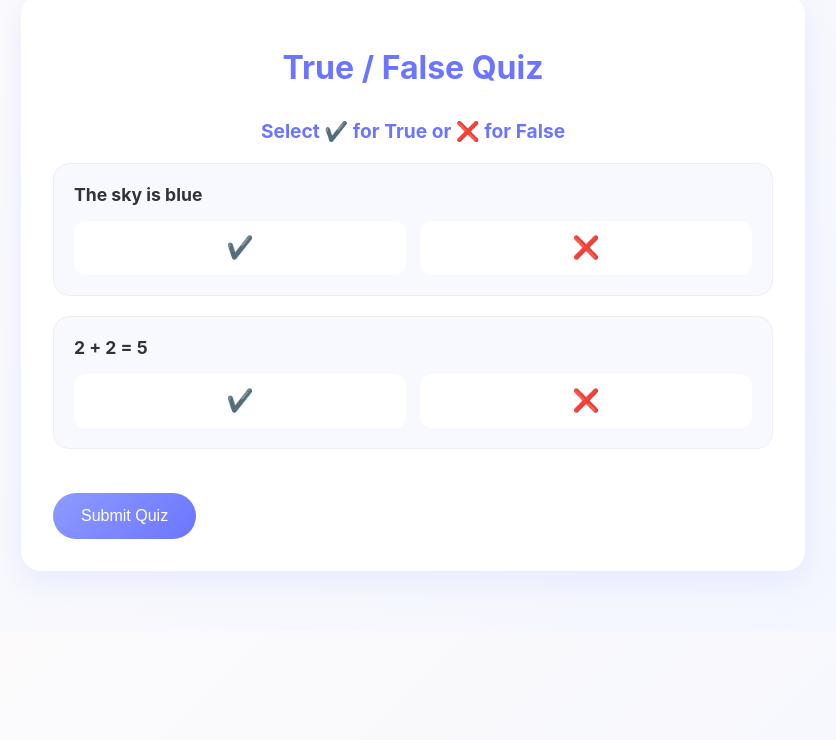
Test: TrueFalseQuizPage Component › calculates score correctly after answering all questions
Click the button "✔️" below "The sky is blue" at [240, 248], box [74,221,406,275]
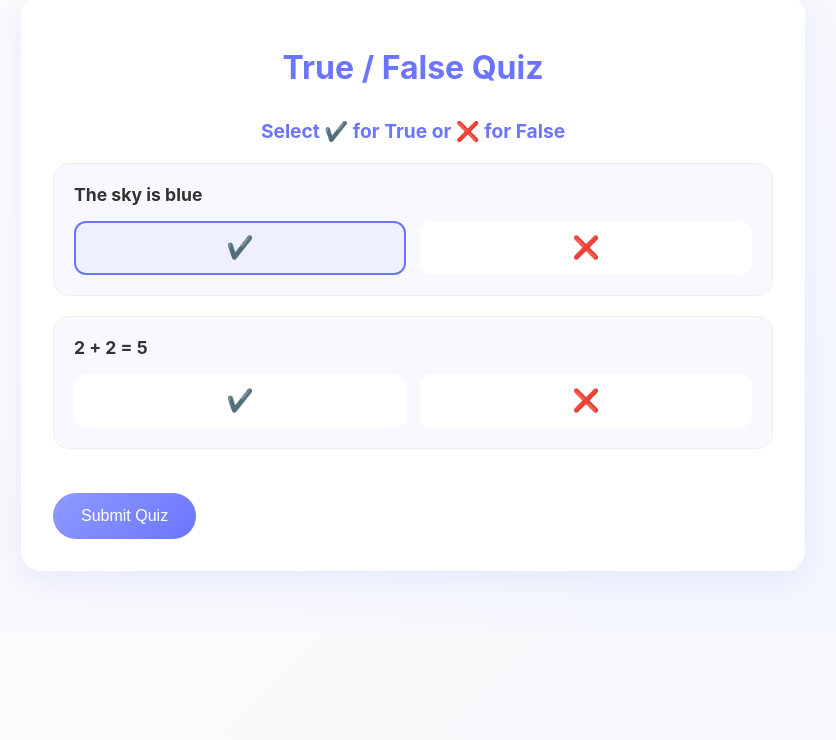
Click the 2nd button "❌" at [586, 401], box [420,374,752,428]
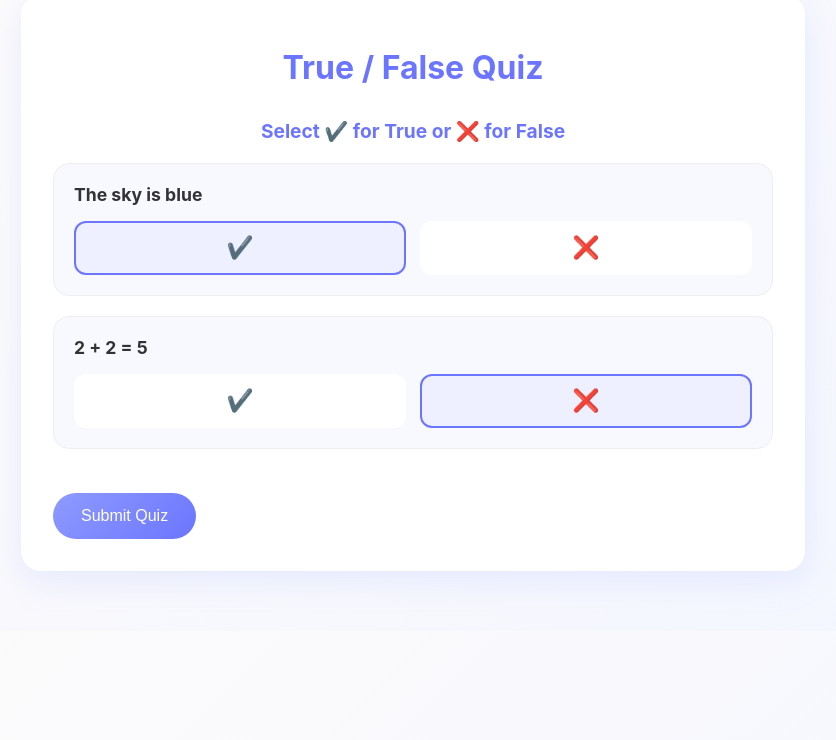
Click the button "Submit Quiz" at [125, 516], box [53,493,196,539]
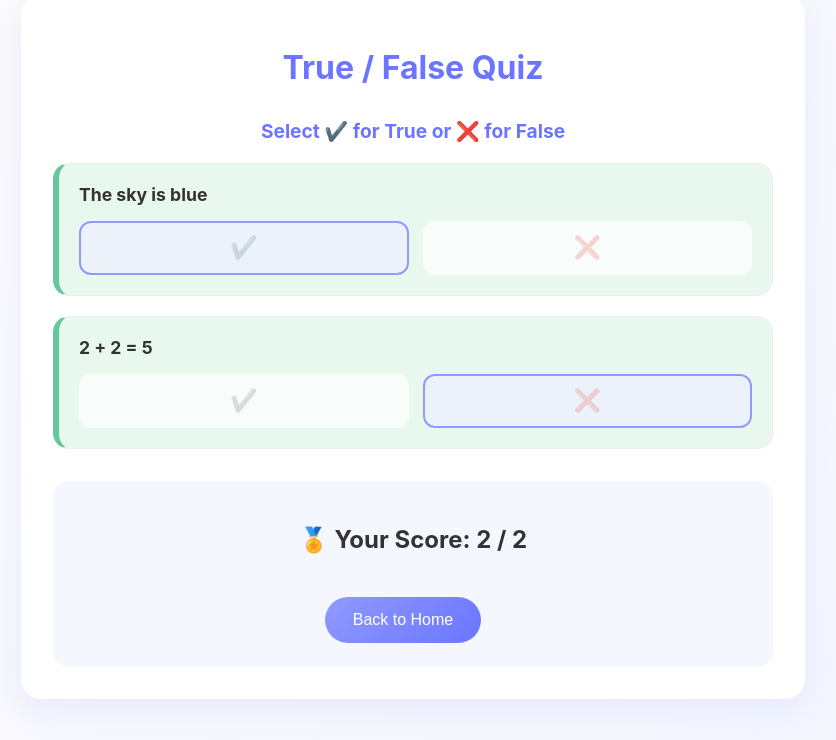
Result: the heading "🏅 Your Score: 2 / 2" is shown at [299,524,527,554]
